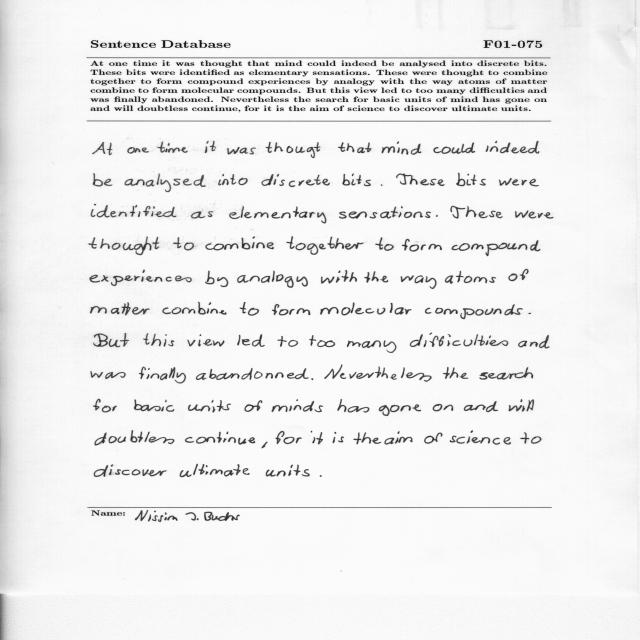word: (324, 365, 432, 382), (90, 269, 192, 286), (229, 206, 326, 223), (124, 174, 206, 193), (425, 304, 523, 319), (452, 240, 541, 256), (287, 237, 364, 255), (410, 333, 508, 347), (196, 368, 309, 380), (237, 270, 308, 288), (89, 237, 159, 255), (91, 204, 177, 218), (95, 431, 175, 446), (339, 206, 431, 219), (320, 303, 412, 316), (185, 431, 255, 445), (205, 237, 274, 251), (94, 464, 167, 477), (450, 430, 511, 445), (180, 464, 250, 477), (262, 174, 330, 187), (266, 142, 321, 158), (162, 302, 227, 315), (139, 367, 186, 384), (90, 303, 150, 316), (486, 141, 539, 154), (450, 206, 503, 219), (480, 367, 533, 380), (271, 399, 323, 412), (445, 271, 496, 284), (347, 340, 397, 353), (396, 173, 445, 186), (188, 400, 231, 413), (382, 141, 421, 155), (266, 465, 310, 477), (402, 239, 442, 252), (134, 399, 174, 412), (433, 142, 475, 154), (321, 270, 357, 284), (401, 275, 437, 289), (94, 333, 129, 347), (188, 334, 225, 347), (379, 405, 421, 416), (143, 333, 174, 347), (272, 304, 310, 315), (338, 399, 370, 412), (519, 335, 550, 348), (385, 431, 413, 445), (456, 173, 486, 186), (342, 174, 371, 187), (464, 401, 498, 412), (205, 271, 228, 287), (237, 334, 265, 347), (338, 142, 371, 153), (275, 431, 302, 444), (353, 433, 381, 445), (158, 142, 188, 153), (218, 174, 248, 185), (509, 399, 534, 412), (499, 178, 539, 186), (515, 211, 554, 219), (309, 335, 335, 347), (443, 367, 468, 379), (94, 399, 117, 412), (364, 271, 388, 283), (93, 173, 113, 187), (91, 371, 126, 379), (173, 237, 194, 250), (375, 237, 394, 251), (240, 302, 259, 316), (520, 432, 542, 444), (93, 142, 113, 155), (509, 269, 529, 281), (278, 336, 298, 347), (245, 400, 263, 412), (424, 433, 443, 444), (227, 147, 256, 154), (191, 211, 213, 219), (311, 431, 323, 444), (127, 147, 149, 154), (433, 404, 453, 411), (205, 141, 216, 153), (333, 432, 344, 443), (262, 442, 268, 448), (381, 184, 383, 186), (436, 215, 438, 217), (312, 378, 314, 380), (320, 475, 322, 477), (529, 313, 531, 314)
